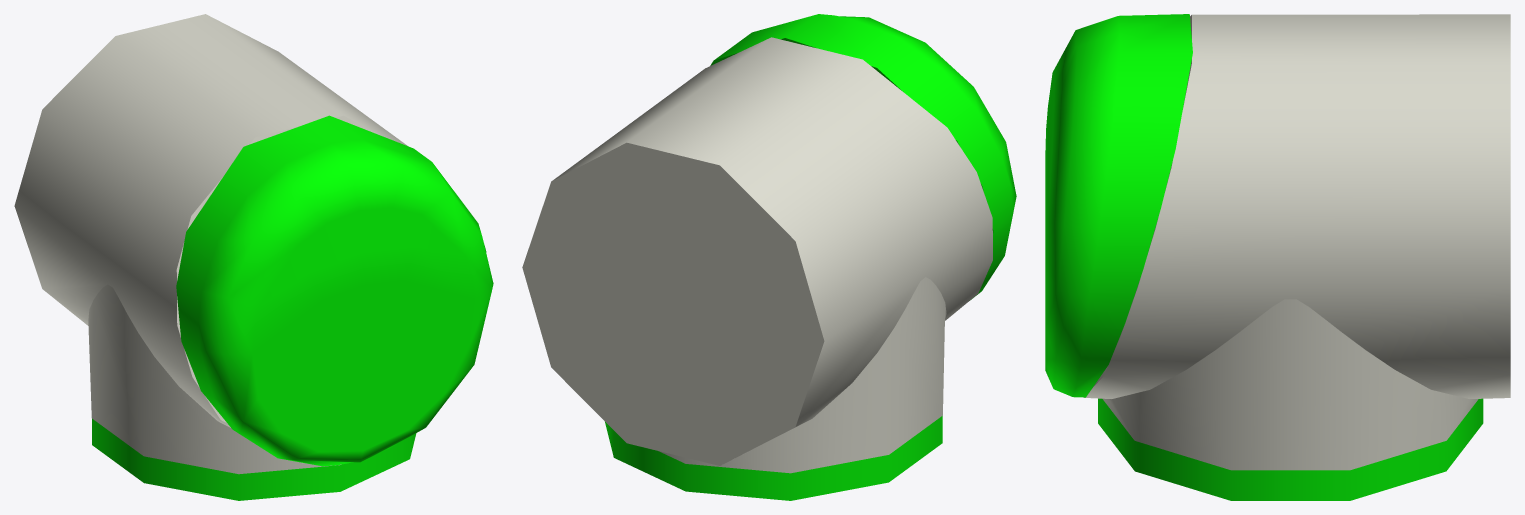
File: joint1.obj
3 renders of one model, left to right at view 1: azimuth 30°, elevation 25°; view 2: azimuth 150°, elevation 25°; view 3: azimuth 270°, elevation 25°, orthographic. The views are drawn at different scales.
Size of the model in its own units: 116 by 130 by 140.
